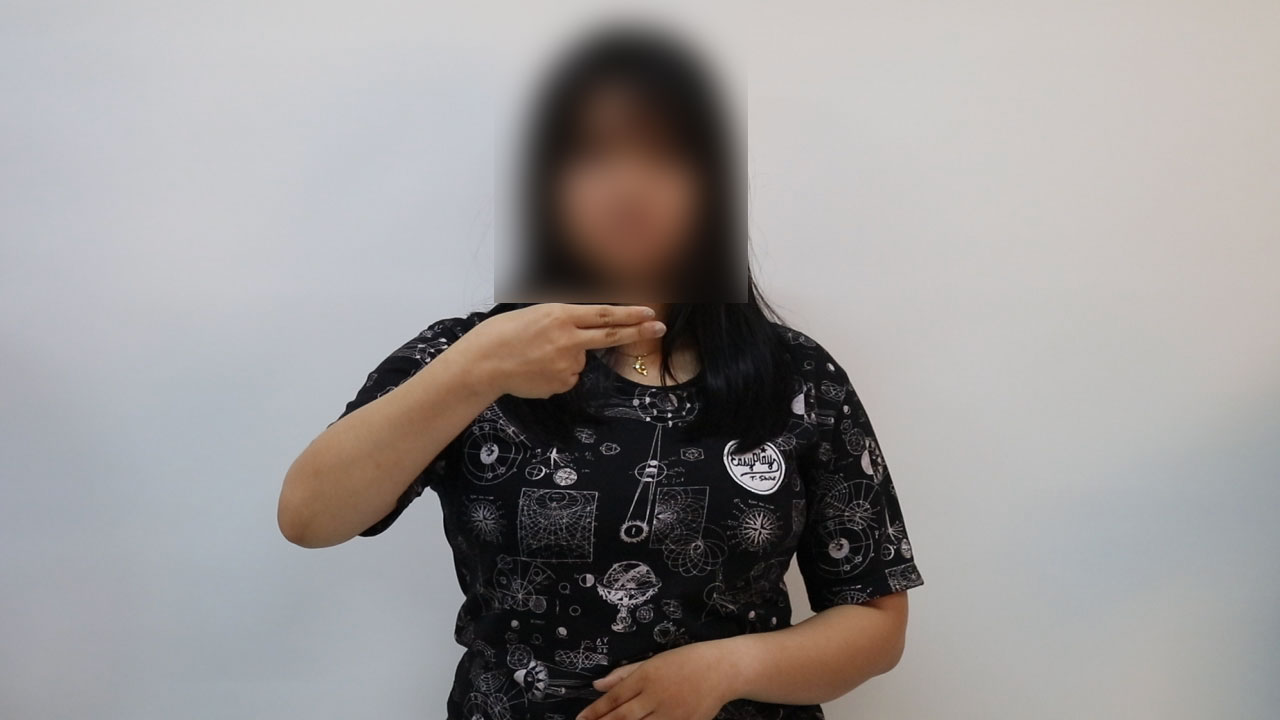hor: (458, 294, 675, 410)
